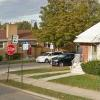Car: (33, 46, 70, 65)
